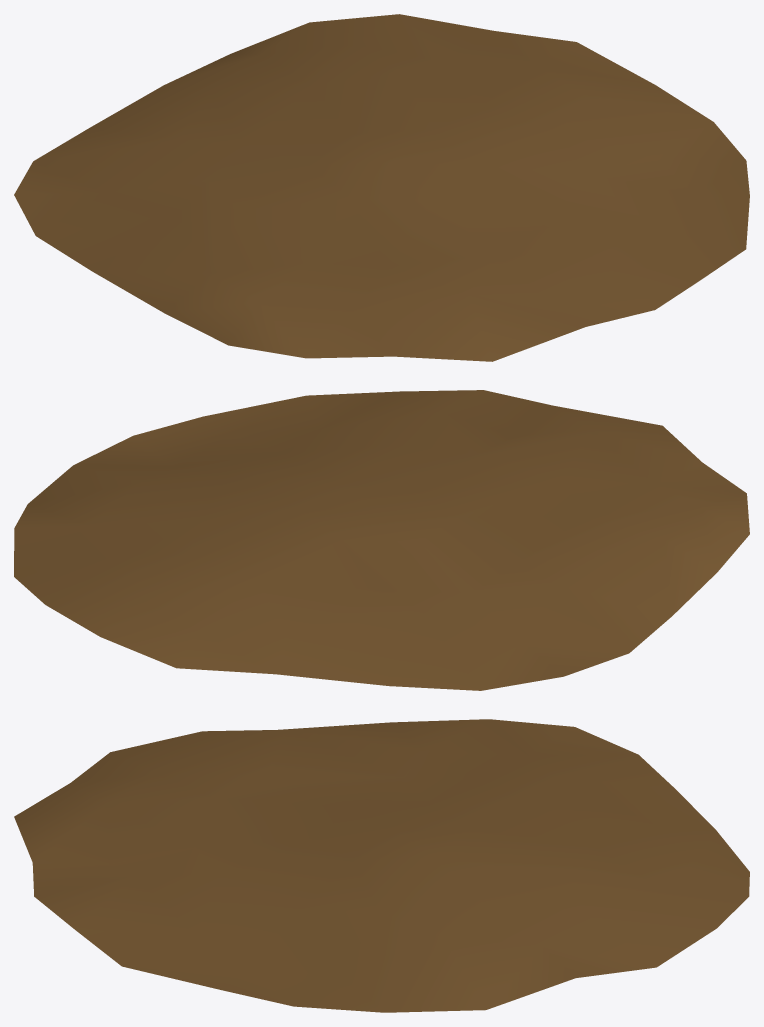
Rendered from beach.fbx.
3 renders of one model, top to bottom at view 1: azimuth 30°, elevation 25°; view 2: azimuth 150°, elevation 25°; view 3: azimuth 270°, elevation 25°, orthographic. The views are drawn at different scales.
Parts seen in each view (by area): view 1: pDisc1; view 2: pDisc1; view 3: pDisc1.
Boxes of the visible parts, x1,y1,x2,y2 form: pDisc1: (14, 14, 749, 361); pDisc1: (14, 390, 749, 690); pDisc1: (14, 719, 749, 1012).
Size of the model in its own units: 2.24 by 0.1346 by 2.36.
